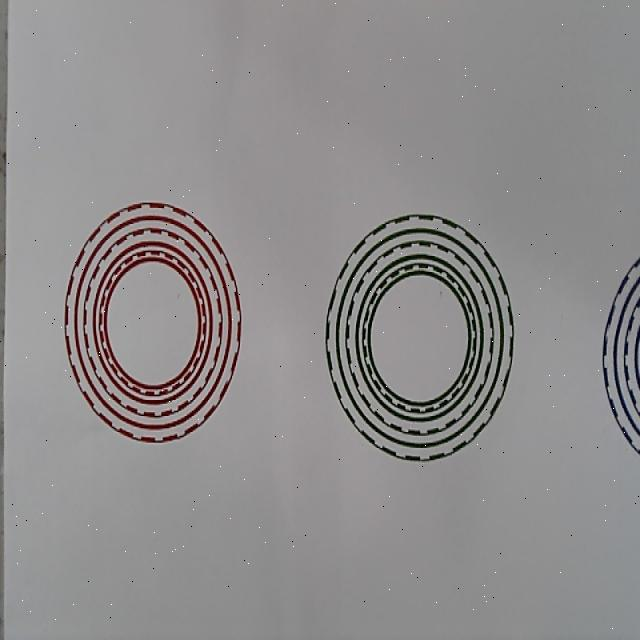g: (325, 213, 514, 463)
red-green-blue: (64, 201, 241, 444)
